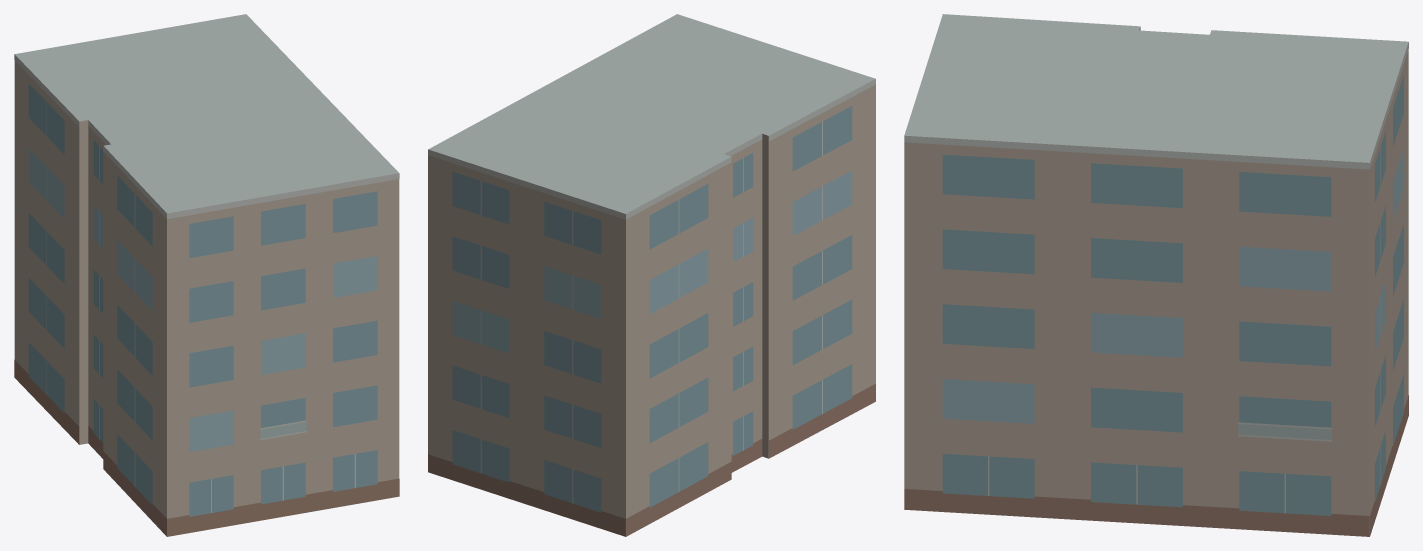
Rendered from survey-upis-32658988.glb.
The picture shows the model from 3 angles, left to right: view 1: azimuth 30°, elevation 25°; view 2: azimuth 150°, elevation 25°; view 3: azimuth 270°, elevation 25°; orthographic projection. The views are drawn at different scales.
Visible parts, largest first — view 1: survey-upis-32658988.tmp; view 2: survey-upis-32658988.tmp; view 3: survey-upis-32658988.tmp.
Boxes of the visible parts, x1,y1,x2,y2 form: survey-upis-32658988.tmp: [14, 14, 399, 536]; survey-upis-32658988.tmp: [428, 14, 875, 536]; survey-upis-32658988.tmp: [904, 14, 1408, 536].
Bounding box in the file's own units: 11.79 × 13.8 × 16.89.
